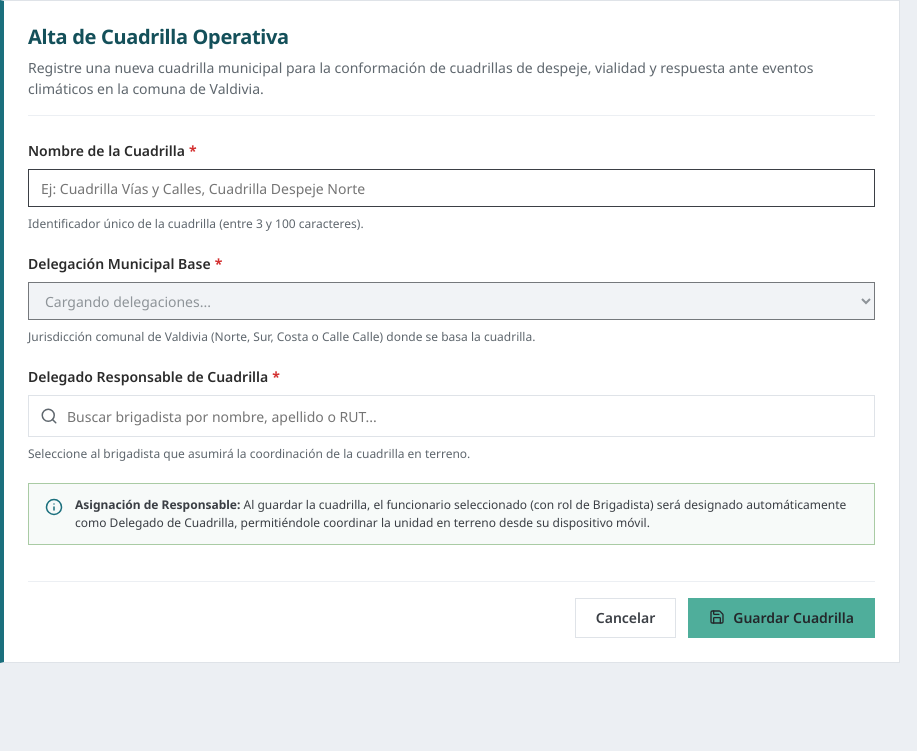
it: CuadrillaForm (H79) › debe filtrar y permitir seleccionar un delegado usando el buscador
This screenshot has width=917, height=751.
# Escribir en el buscador para filtrar
Step 1. Type "Carlos" into the field with placeholder "Buscar brigadista por nombre, apellido o RUT..." → (452, 416), box [28, 395, 875, 437]
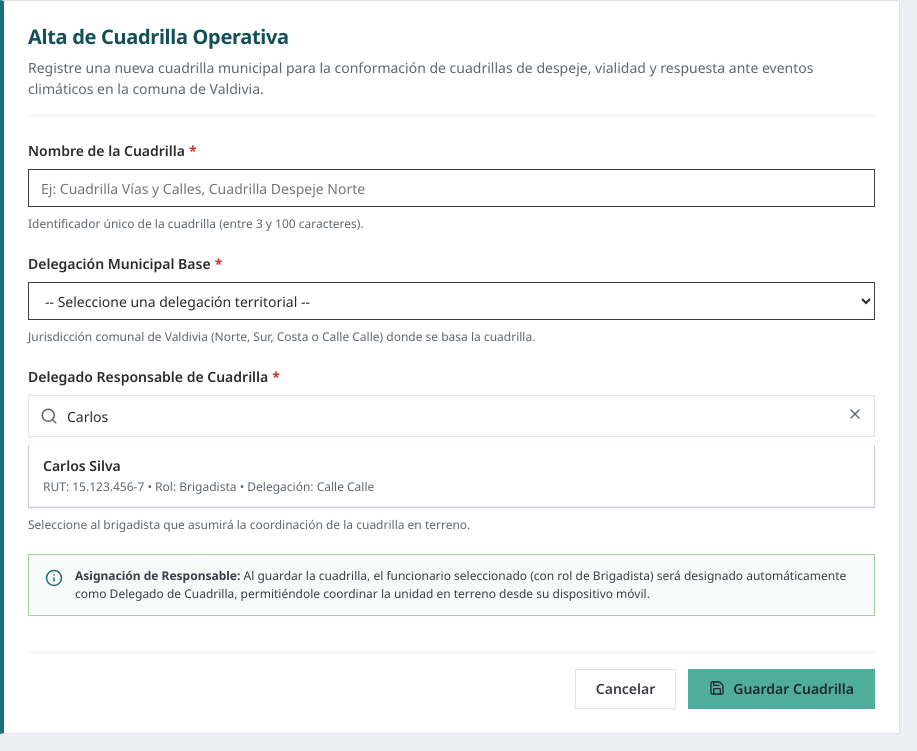
Now the text "Carlos Silva" is shown
# Seleccionar al funcionario
Step 2. Click the text "Carlos Silva" → (82, 466), box [43, 456, 121, 475]
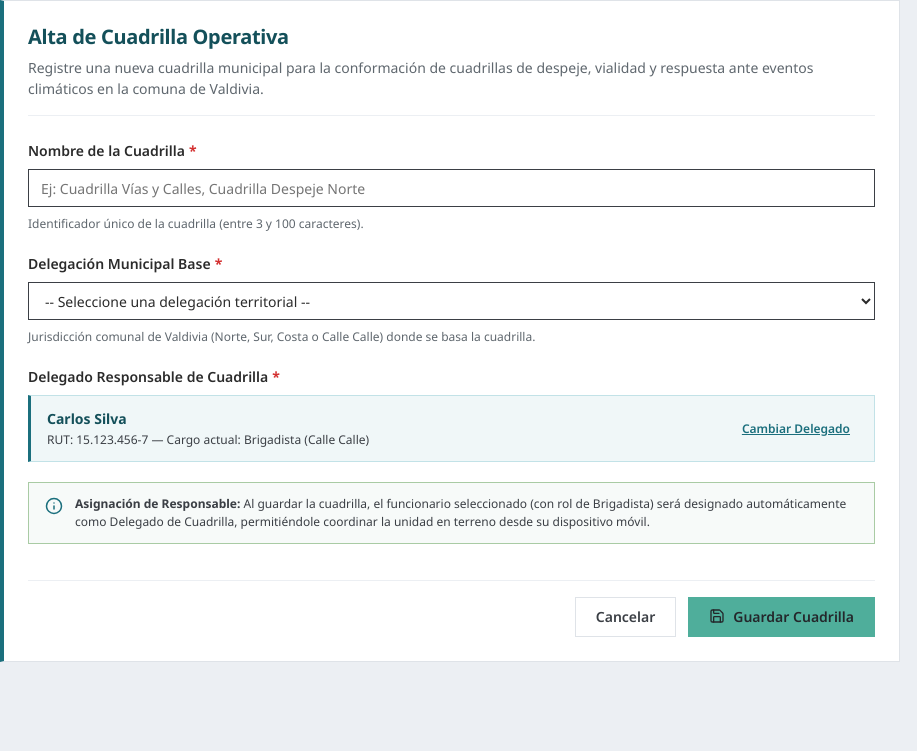
Now the text "Carlos Silva" is shown, box [47, 409, 127, 428]
Now the text "RUT: 15.123.456-7 — Cargo actual: Brigadista (Calle Calle)" is shown, box [47, 431, 369, 449]
Now the button "Cambiar Delegado" is shown, box [734, 416, 858, 441]
